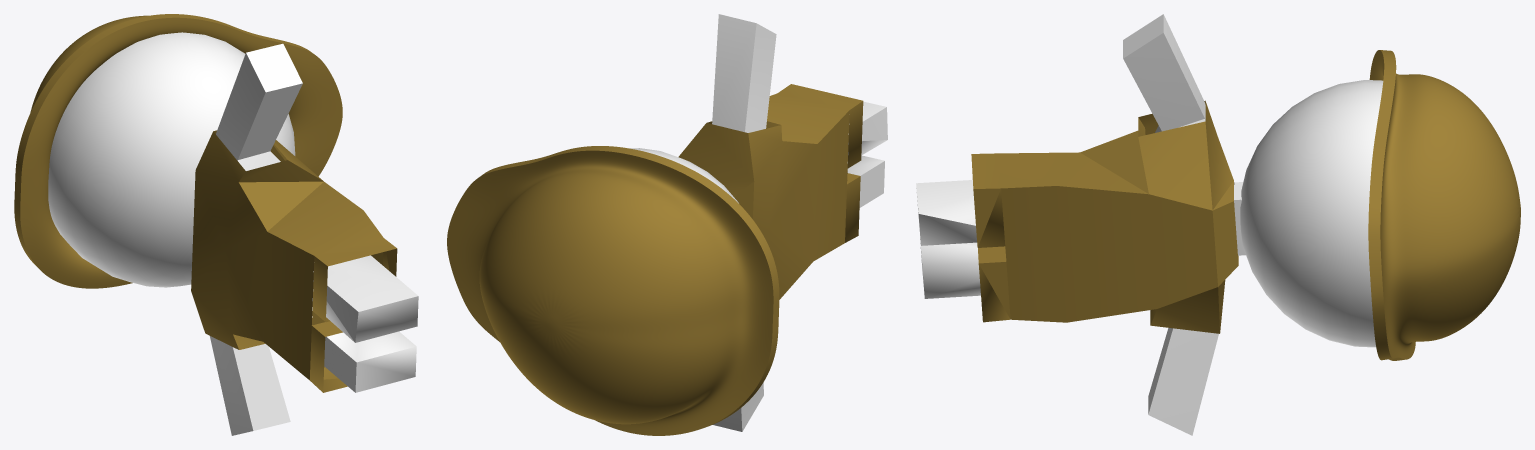
File: Player.glb
The picture shows the model from 3 angles, left to right: view 1: azimuth 30°, elevation 25°; view 2: azimuth 150°, elevation 25°; view 3: azimuth 270°, elevation 25°; orthographic projection. The views are drawn at different scales.
Parts seen in each view (by area): view 1: 服; view 2: 服; view 3: 服.
Part boxes in pixels (x1=…): 服: x1=14, y1=14, x2=418, y2=435; 服: x1=447, y1=14, x2=887, y2=435; 服: x1=916, y1=14, x2=1520, y2=435.
Size of the model in its own units: 0.6345 by 0.7411 by 1.01.
Materials: 4 (4 with a texture image).
